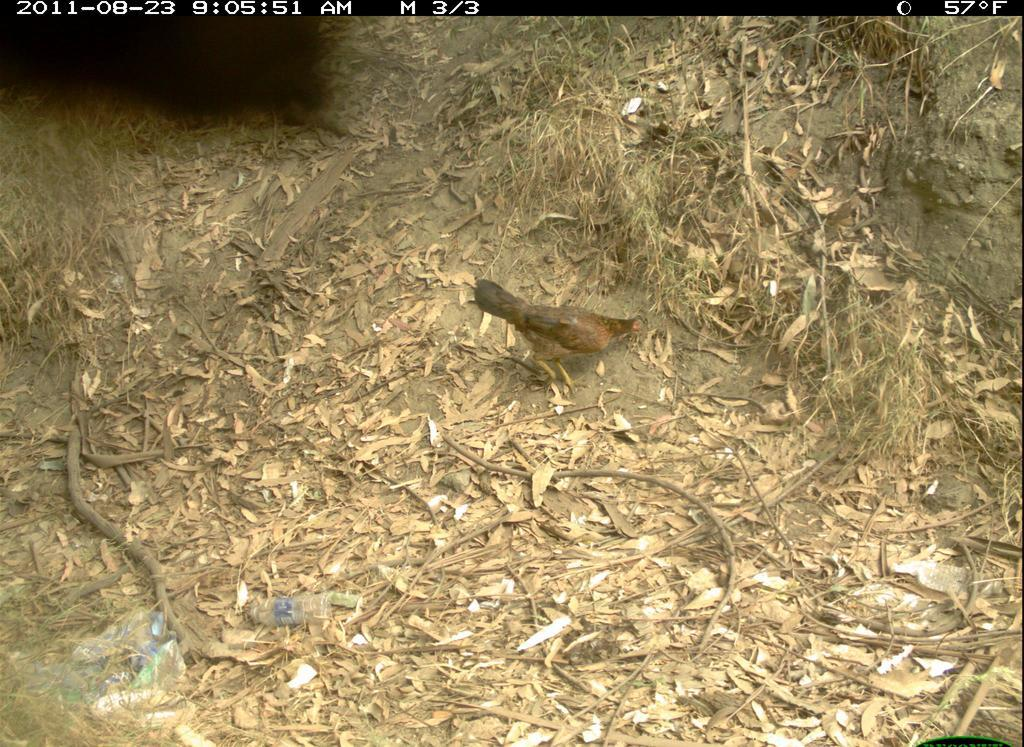bird: (452, 276, 665, 394)
